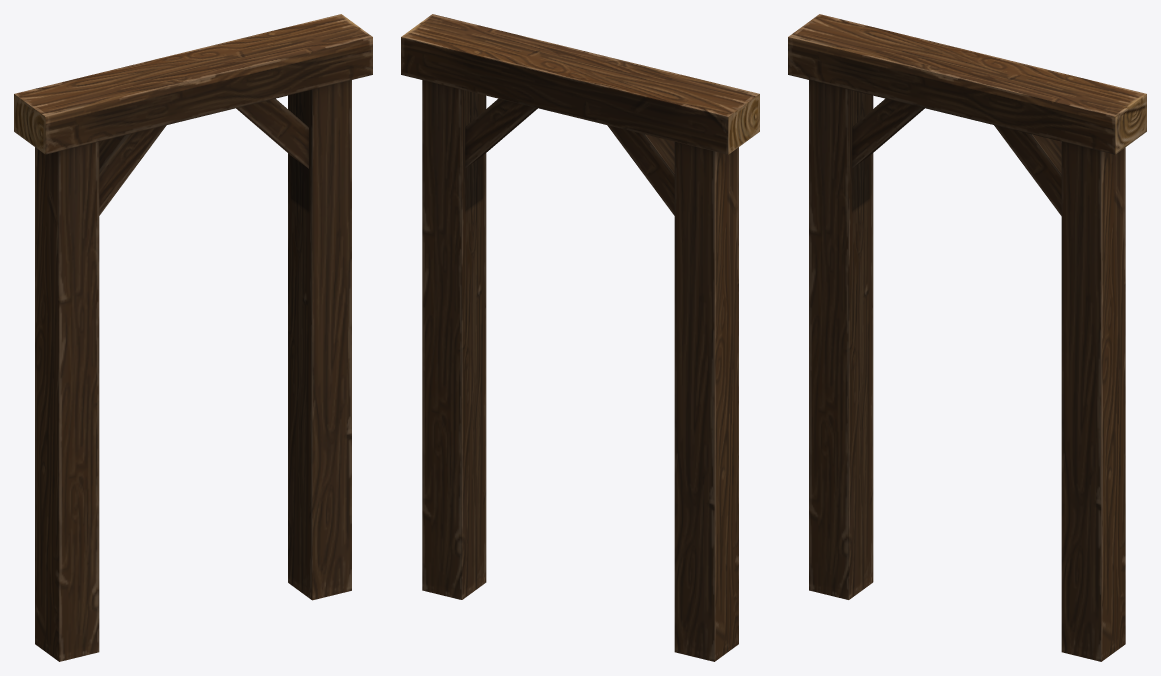
The model's file is Wagon_beam1.fbx.
The picture shows the model from 3 angles, left to right: view 1: azimuth 30°, elevation 25°; view 2: azimuth 150°, elevation 25°; view 3: azimuth 330°, elevation 25°; orthographic projection.
Visible parts, largest first — view 1: polySurface33; view 2: polySurface33; view 3: polySurface33.
Boxes of the visible parts, x1,y1,x2,y2 form: polySurface33: (14,14,372,661); polySurface33: (401,14,759,661); polySurface33: (788,14,1146,661).
Size of the model in its own units: 1.83 by 2.96 by 0.3048.
1 material, 1 textured.
